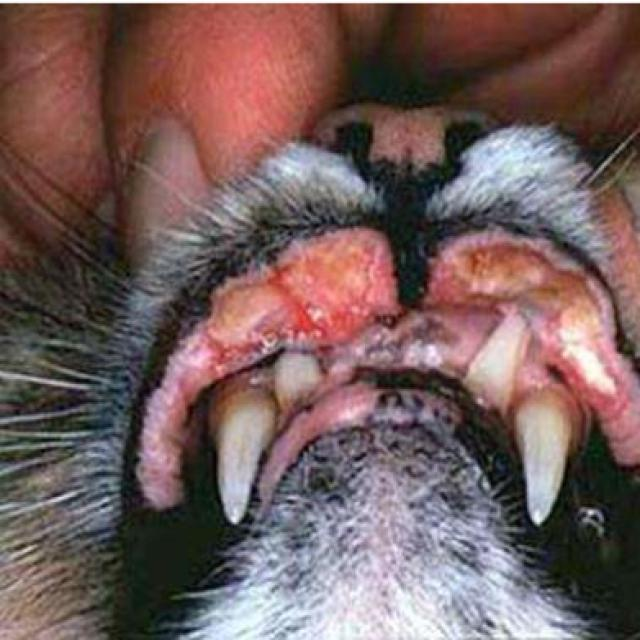cat-ulcer: (160, 234, 439, 384), (438, 224, 640, 406)
